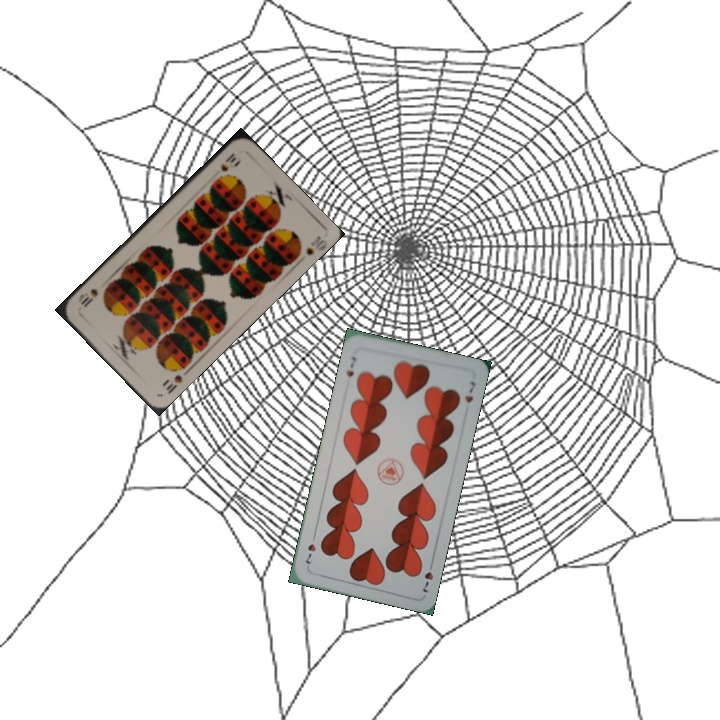H7: (418, 557, 436, 595), (342, 352, 359, 380)
S10: (162, 371, 185, 397), (217, 148, 239, 175)
